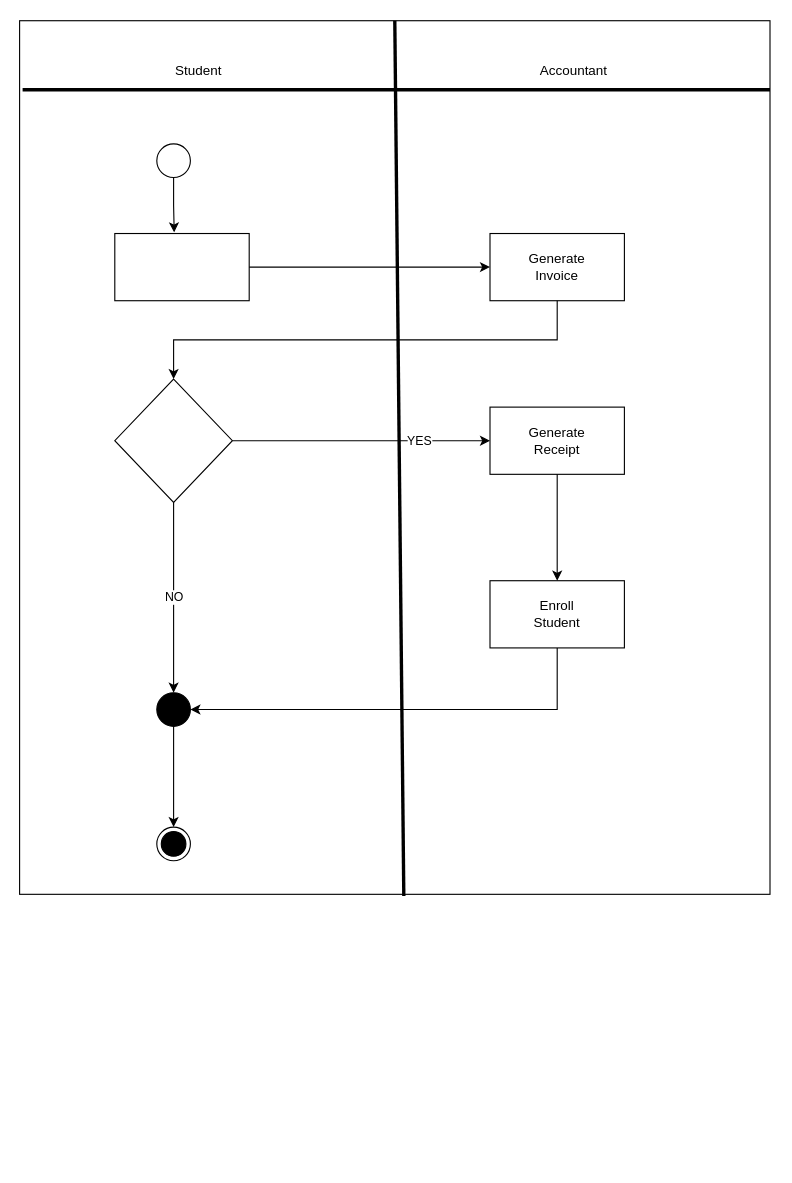
The diagram is 792 pixels wide and 1183 high, and some of its shapes have lost their labels. Here are the shapes that lost their labels. From the top down, the box of each, then its label:
(114, 232, 249, 301): Select Course
(114, 378, 232, 502): Pay?
